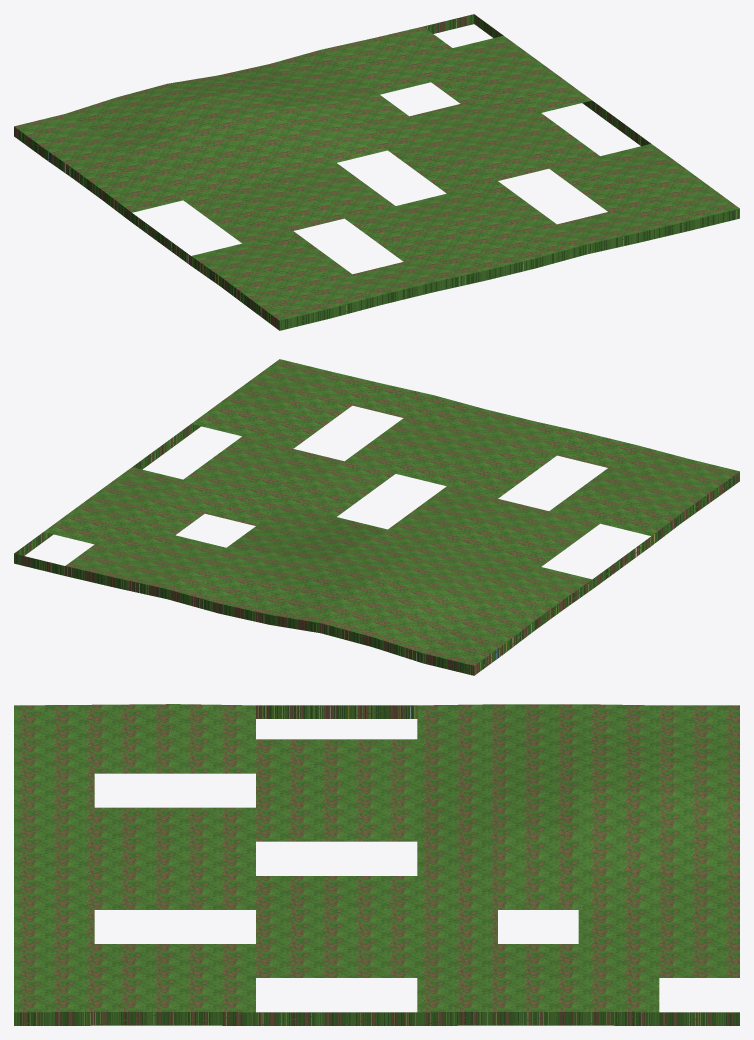
The model's file is rv_terrain_33_lod2.gltf.
3 renders of one model, top to bottom at view 1: azimuth 30°, elevation 25°; view 2: azimuth 150°, elevation 25°; view 3: azimuth 270°, elevation 25°, orthographic. The views are drawn at different scales.
Parts seen in each view (by area): view 1: RV_Terrain_33_lod2; view 2: RV_Terrain_33_lod2; view 3: RV_Terrain_33_lod2.
Boxes of the visible parts, x1,y1,x2,y2 form: RV_Terrain_33_lod2: [14, 14, 739, 330]; RV_Terrain_33_lod2: [14, 359, 739, 675]; RV_Terrain_33_lod2: [14, 704, 739, 1025].
Size of the model in its own units: 72 by 3.31 by 72.
2 materials, 1 textured.
